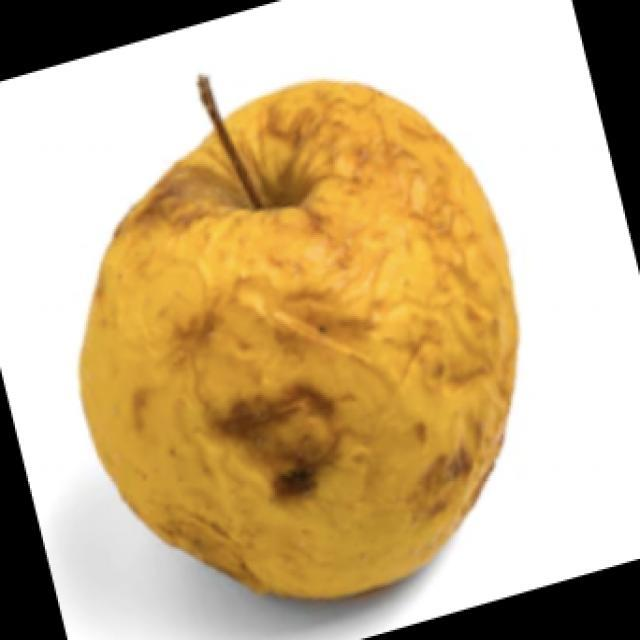Rotten: (85, 80, 518, 592)
